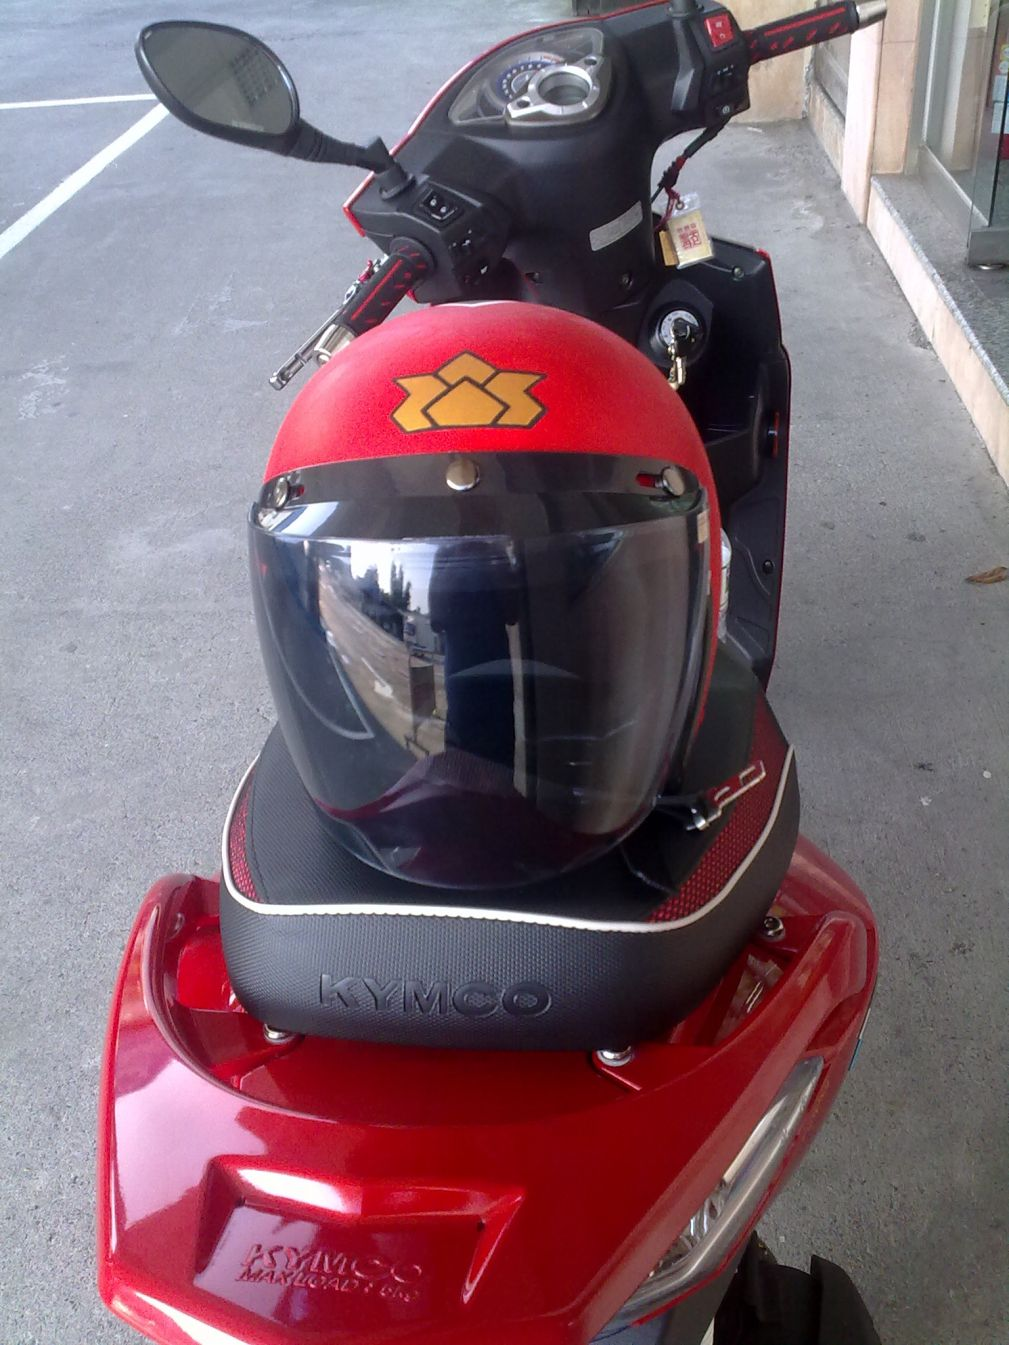helmet: (229, 348, 785, 848)
